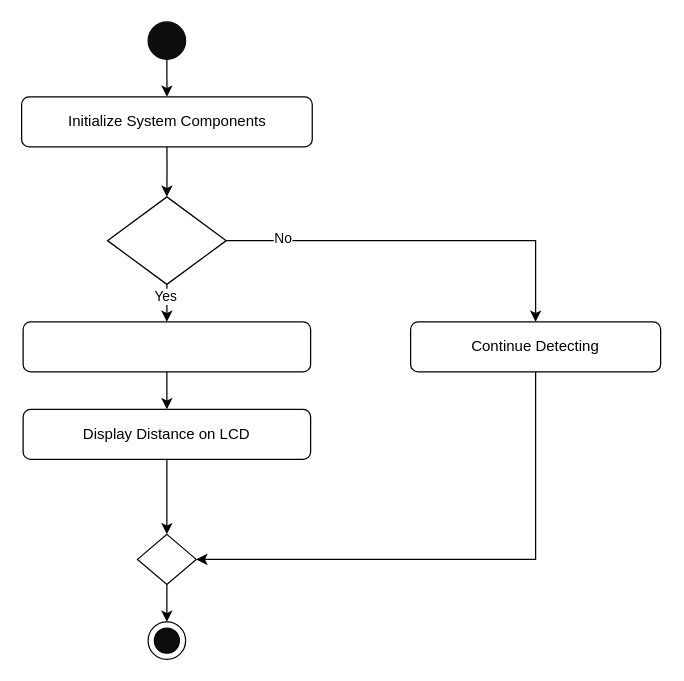
This 684x681 diagram has some shape labels left out. Each missing label, with the centre of its shape:
Feedback through LEDs and Buzzer: the point at 166,346
Obstacle Detected?: the point at 166,240
